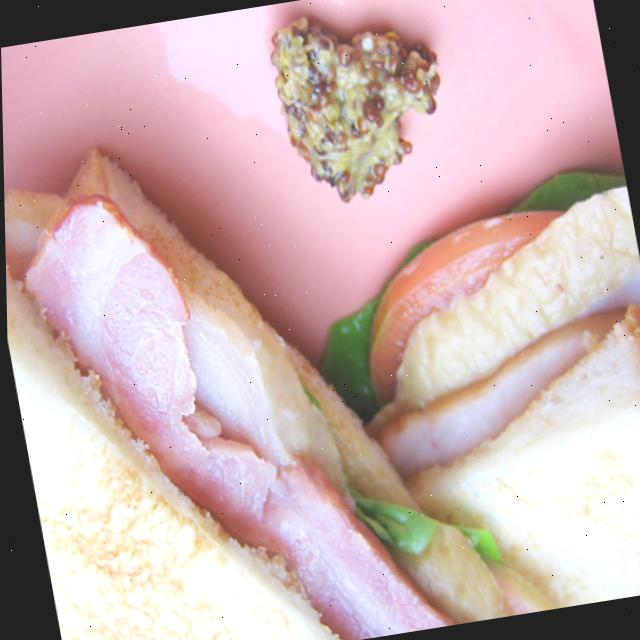三明治: (1, 64, 640, 640)
